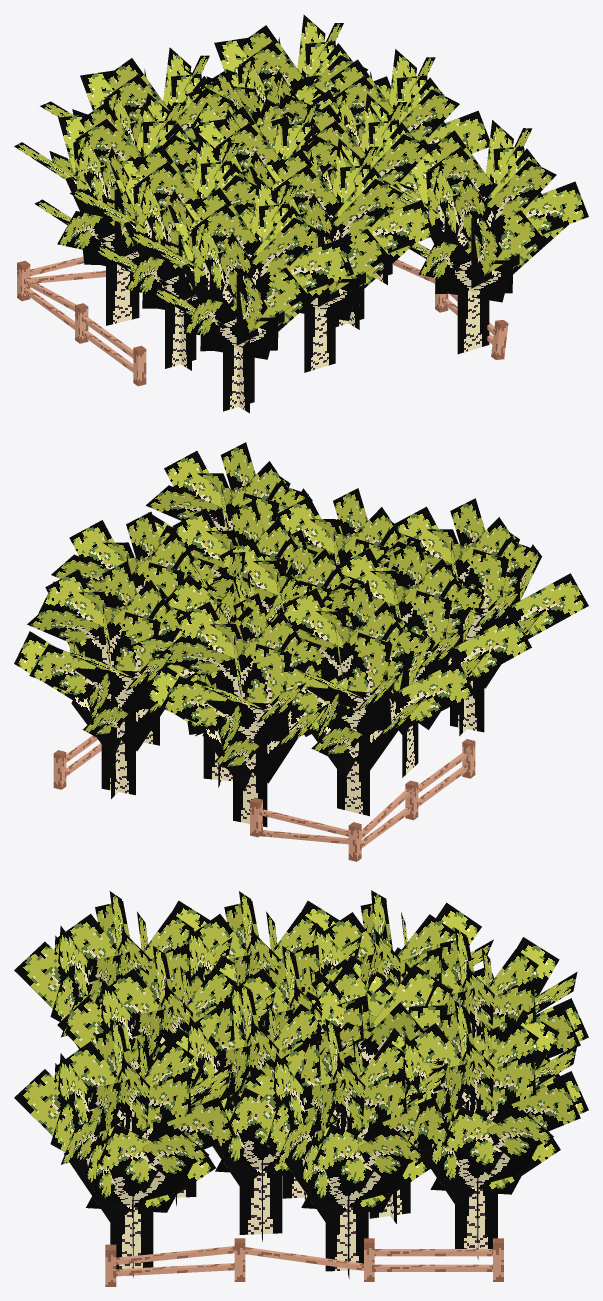
File: tree_farm.glb
3 views of the same model, one above another, from view 1: azimuth 30°, elevation 25°; view 2: azimuth 150°, elevation 25°; view 3: azimuth 270°, elevation 25° (orthographic). The views are drawn at different scales.
Visible parts, largest first — view 1: tree_farm; view 2: tree_farm; view 3: tree_farm.
Boxes of the visible parts, x1,y1,x2,y2 form: tree_farm: (14,14,588,413); tree_farm: (14,442,588,861); tree_farm: (14,890,588,1286).
Size of the model in its own units: 12.33 by 6.3 by 13.35.
1 material, 1 textured.
